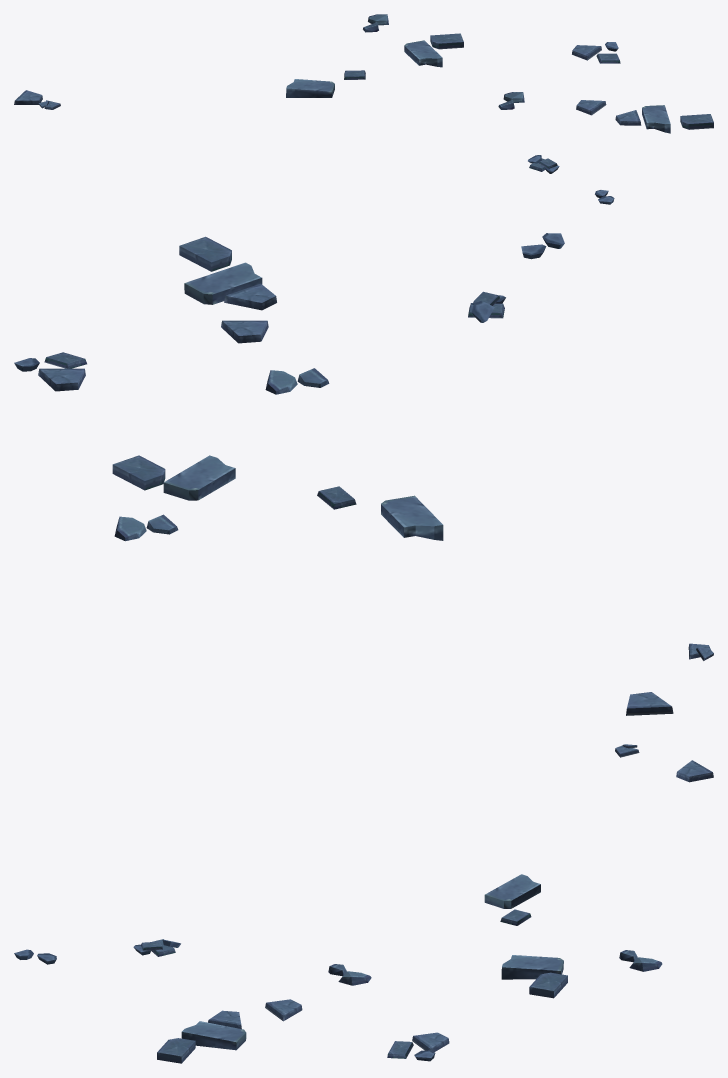
File: Area13_4.fbx
The picture shows the model from 3 angles, top to bottom: view 1: azimuth 30°, elevation 25°; view 2: azimuth 150°, elevation 25°; view 3: azimuth 270°, elevation 25°; orthographic projection. The views are drawn at different scales.
Parts seen in each view (by area): view 1: Area13_4; view 2: Area13_4; view 3: Area13_4.
Boxes of the visible parts, x1,y1,x2,y2 form: Area13_4: (14,14,713,204); Area13_4: (14,233,713,715); Area13_4: (14,744,713,1063).
Bounding box in the file's own units: 3752 × 145 × 3547.
1 material, 1 textured.
